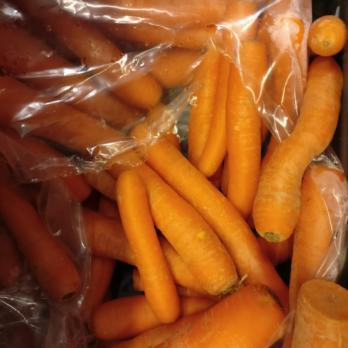Carrot: (3, 1, 348, 346)
